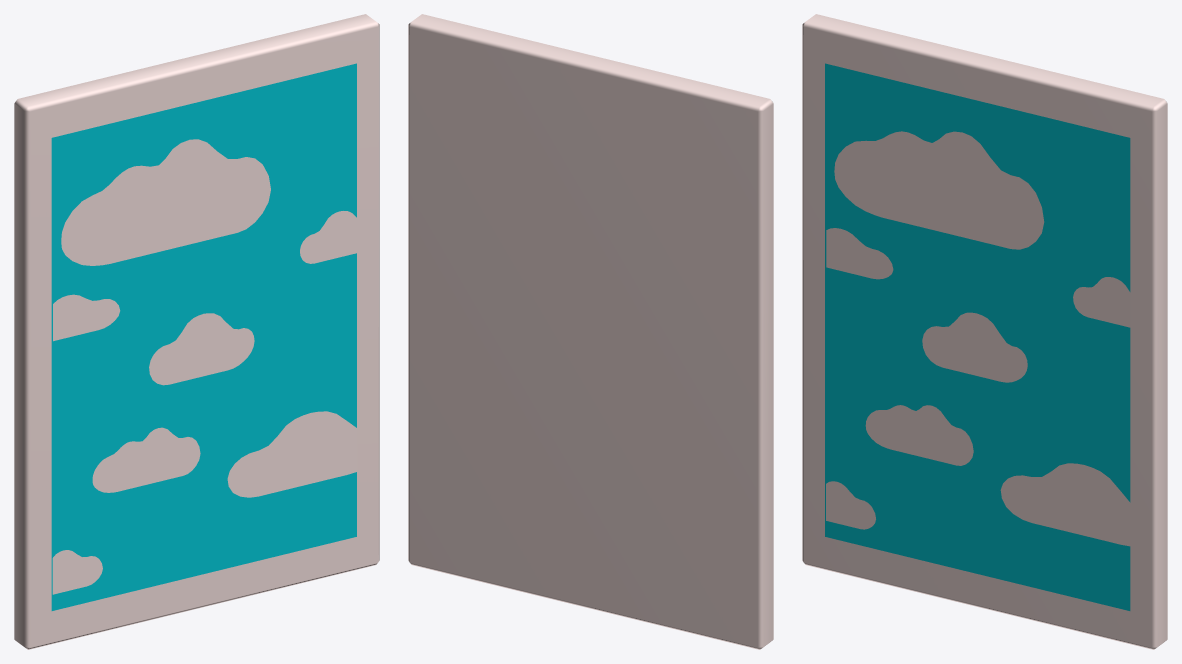
File: Public_4_Cinema_Poster_4.glb
3 renders of one model, left to right at view 1: azimuth 30°, elevation 25°; view 2: azimuth 150°, elevation 25°; view 3: azimuth 330°, elevation 25°, orthographic.
Parts seen in each view (by area): view 1: Public_4_Cinema_Poster_4; view 2: Public_4_Cinema_Poster_4; view 3: Public_4_Cinema_Poster_4.
Boxes of the visible parts, <box> form: Public_4_Cinema_Poster_4: <box>14,14,379,649</box>; Public_4_Cinema_Poster_4: <box>408,14,773,649</box>; Public_4_Cinema_Poster_4: <box>802,14,1167,649</box>.
Size of the model in its own units: 1.13 by 1.65 by 0.0805.
Materials: 1 (1 with a texture image).
